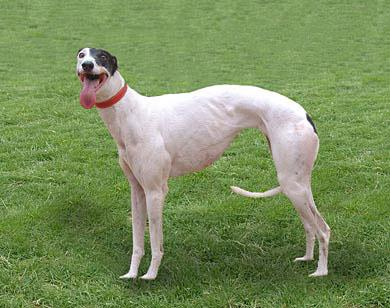dog: (69, 42, 341, 288)
